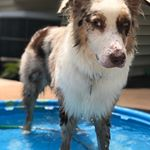puppy: (54, 1, 144, 149)
